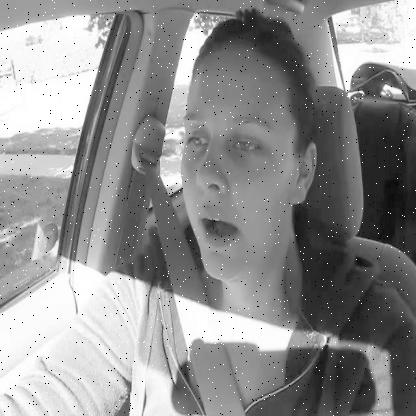seatbelt: (163, 6, 322, 416)
